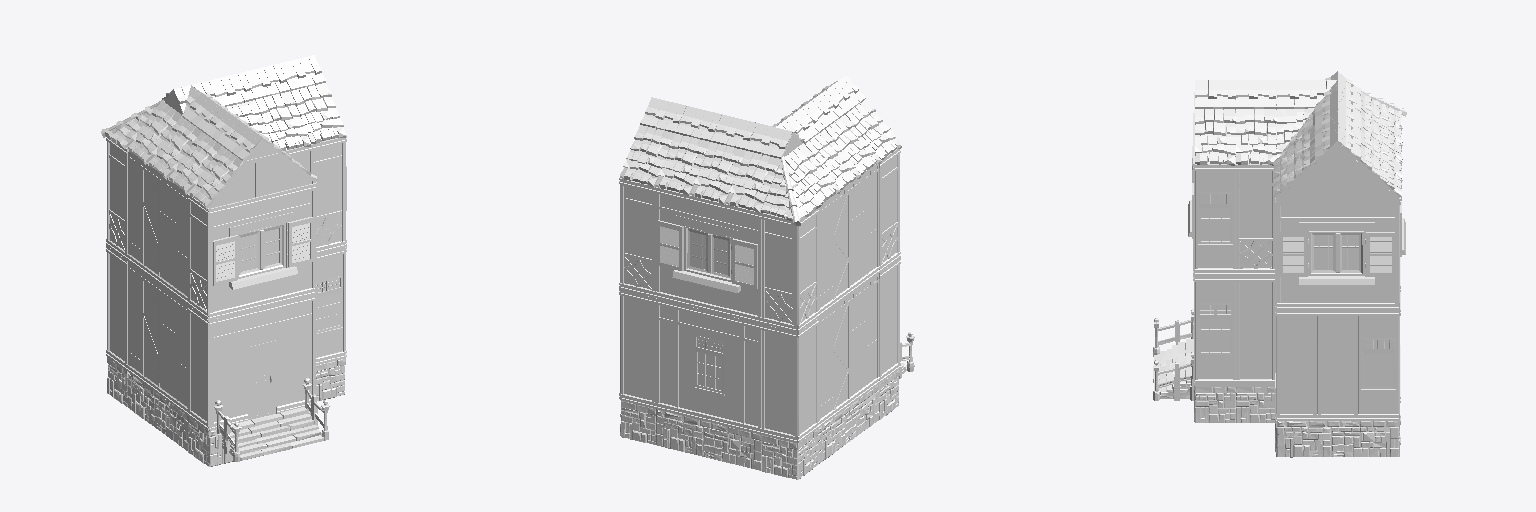
File: house_09.obj
3 views of the same model, side by side, from view 1: azimuth 30°, elevation 25°; view 2: azimuth 150°, elevation 25°; view 3: azimuth 270°, elevation 25° (orthographic).
Size of the model in its own units: 5.31 by 8.59 by 6.24.